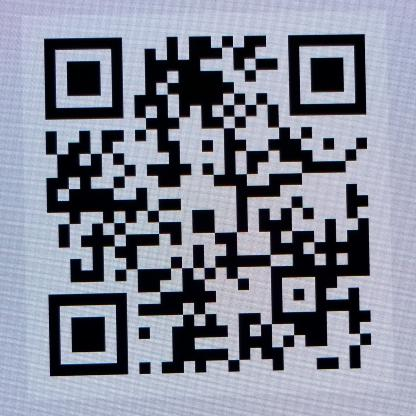qr: (37, 31, 381, 382)
